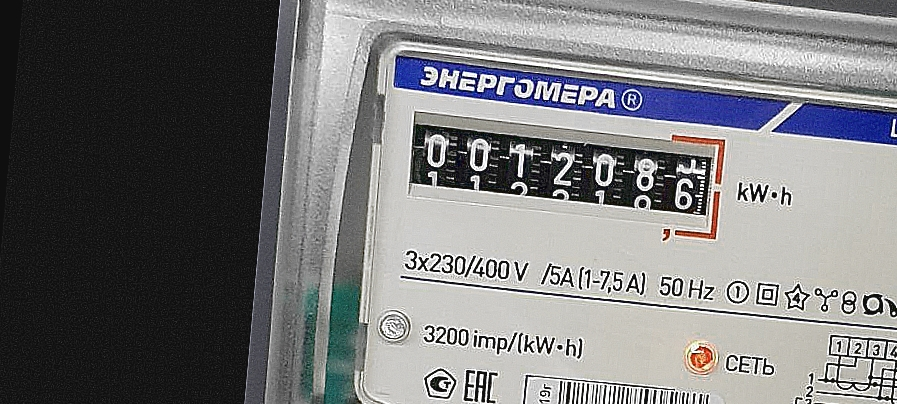0: (421, 128, 451, 169), (465, 134, 492, 173), (590, 149, 617, 187)
1: (507, 139, 531, 180)
2: (548, 148, 578, 188)
6: (670, 173, 696, 211)
8: (630, 154, 658, 193)
screen: (397, 103, 735, 245)
